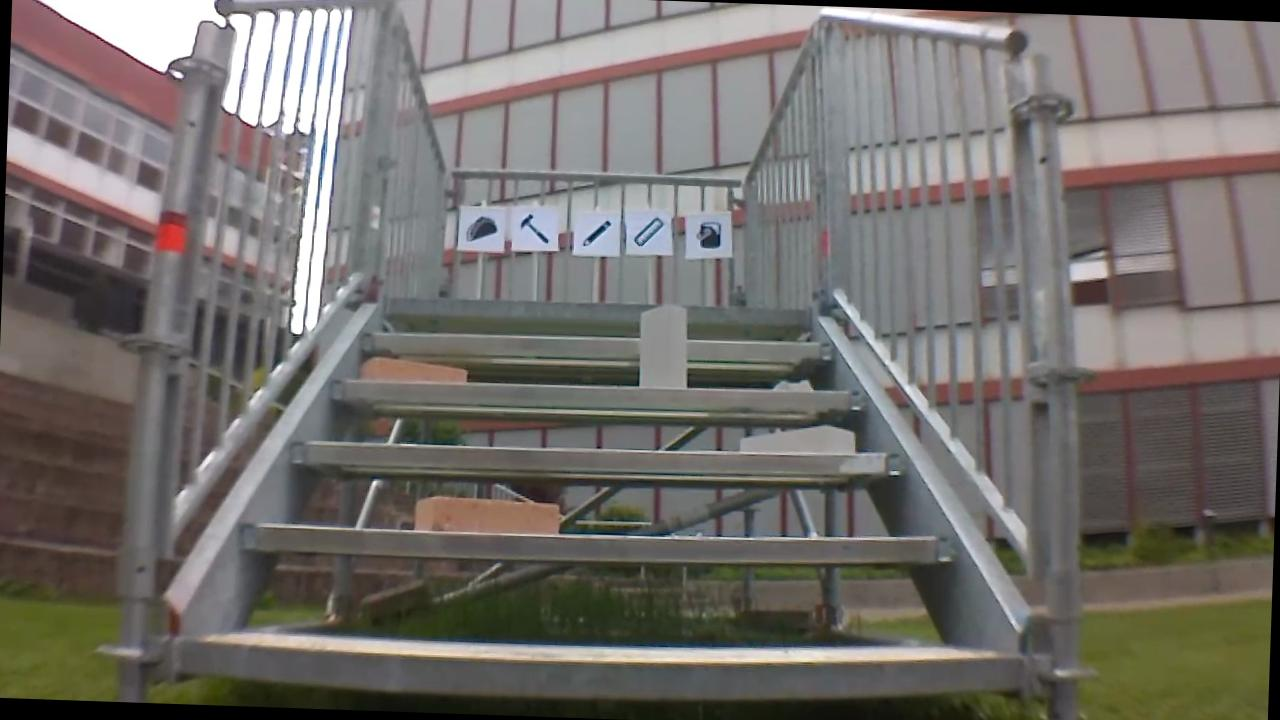brick: (412, 495, 559, 535), (638, 304, 687, 386), (739, 423, 853, 454), (363, 357, 464, 383)
bucket: (691, 216, 725, 250)
edge: (177, 628, 1026, 712), (242, 512, 959, 575), (292, 431, 908, 481), (330, 372, 864, 415), (361, 326, 835, 364), (386, 294, 816, 328)
hammer: (514, 210, 555, 247)
pencil: (578, 215, 615, 253)
ruler: (628, 211, 669, 249)
steps: (174, 281, 1045, 718)
taco: (461, 212, 501, 246)
